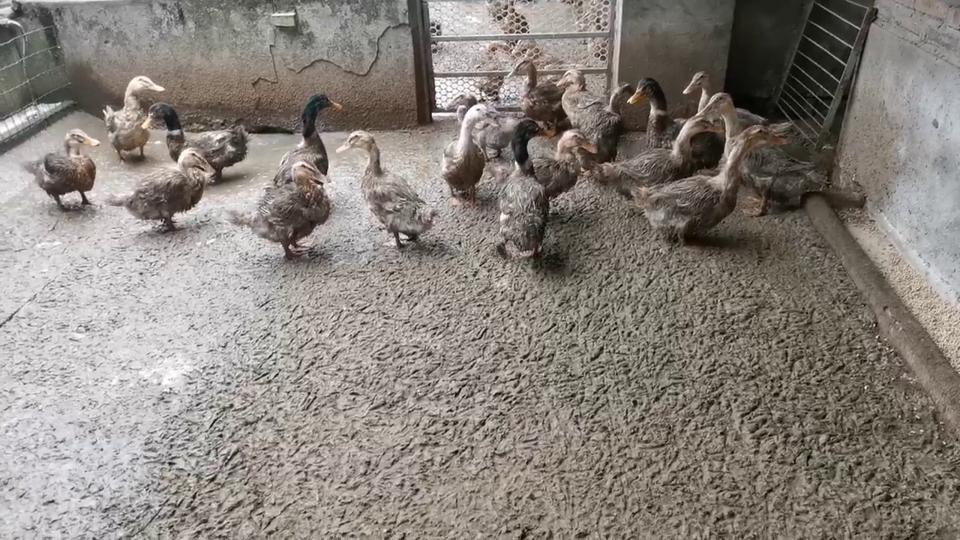duck: (699, 94, 848, 219), (650, 127, 790, 256), (342, 131, 441, 251), (491, 114, 562, 272), (148, 104, 252, 186), (253, 165, 339, 260), (608, 117, 722, 185), (23, 128, 111, 213), (623, 77, 728, 148), (127, 155, 220, 231), (283, 95, 343, 199), (443, 96, 494, 202), (107, 77, 164, 164), (506, 60, 574, 126), (535, 130, 599, 199), (560, 70, 617, 143), (469, 40, 512, 100), (676, 66, 727, 104), (575, 10, 611, 61), (514, 39, 567, 70), (499, 1, 534, 38)
